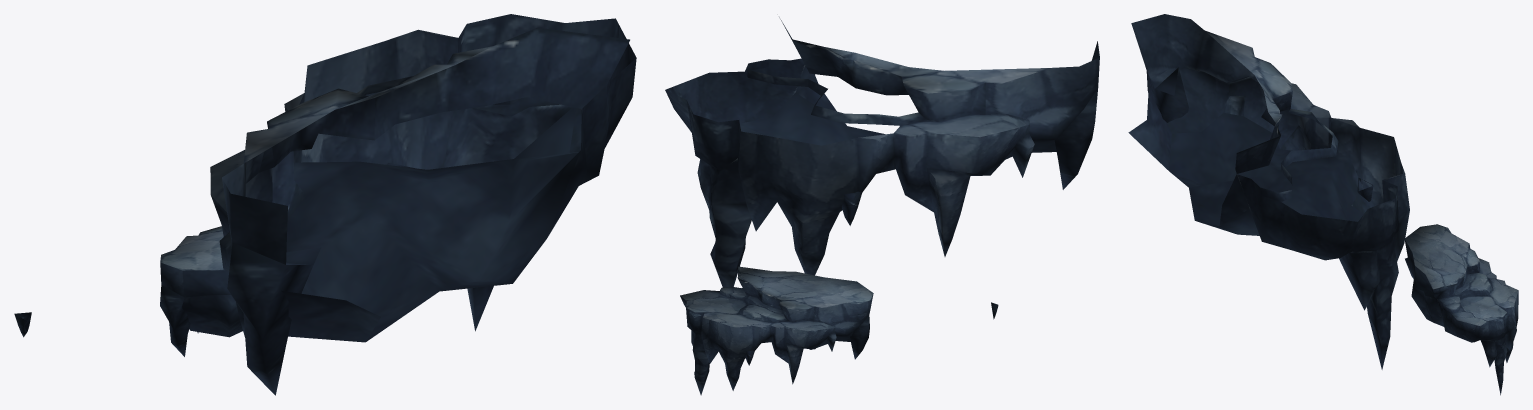
Rendered from Area_04_3.fbx.
3 renders of one model, left to right at view 1: azimuth 30°, elevation 25°; view 2: azimuth 150°, elevation 25°; view 3: azimuth 270°, elevation 25°, orthographic. The views are drawn at different scales.
Visible parts, largest first — view 1: Area_04_3; view 2: Area_04_3; view 3: Area_04_3.
Part boxes in pixels (box(x1,y1,x2,y2)): Area_04_3: box(14, 14, 636, 395); Area_04_3: box(665, 17, 1099, 395); Area_04_3: box(1128, 14, 1518, 395).
Size of the model in its own units: 4727 by 3455 by 4523.
